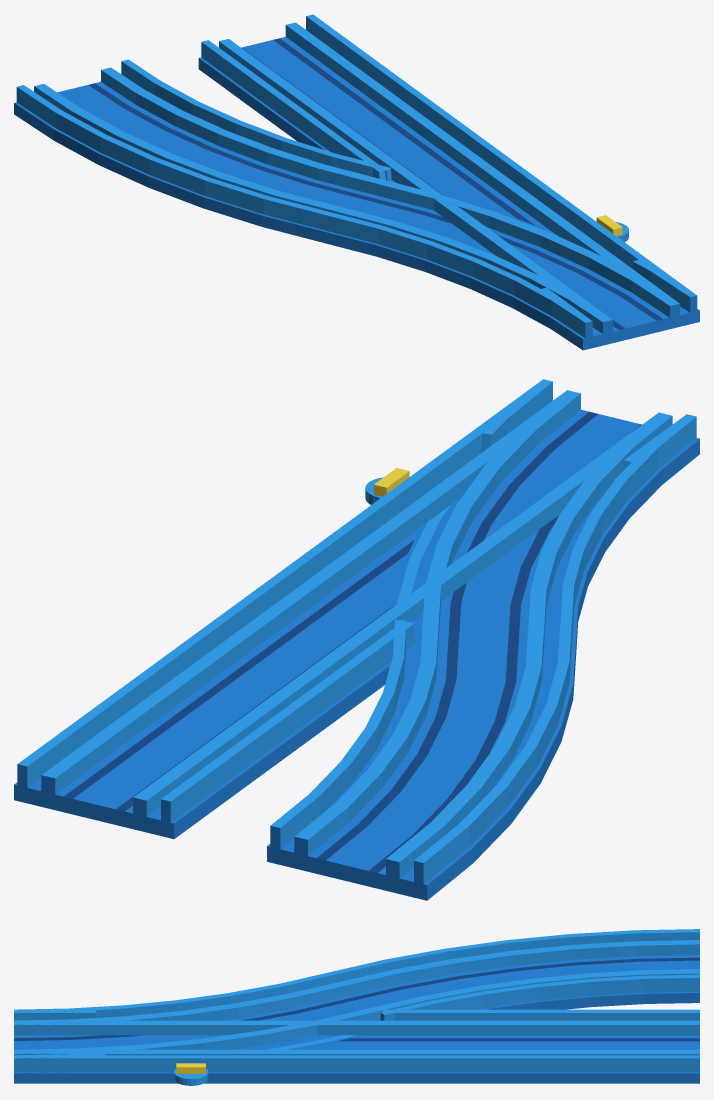
File: Track_DoublePoint_Left.fbx
The picture shows the model from 3 angles, top to bottom: view 1: azimuth 30°, elevation 25°; view 2: azimuth 150°, elevation 25°; view 3: azimuth 270°, elevation 25°; orthographic projection. The views are drawn at different scales.
Parts seen in each view (by area): view 1: Molded rail branch, Molded rail through; view 2: Molded rail branch, Molded rail through; view 3: Molded rail through, Molded rail branch, Lever base, Lever handle.
Part boxes in pixels (x1,y1,x2,y2): Molded rail branch: (14, 59, 699, 350); Molded rail through: (198, 14, 699, 349); Molded rail branch: (267, 379, 699, 900); Molded rail through: (14, 383, 682, 838); Molded rail through: (14, 1009, 699, 1083); Molded rail branch: (14, 929, 699, 1073); Lever base: (174, 1068, 208, 1085); Lever handle: (176, 1063, 205, 1073).
Size of the model in its own units: 295 by 23.31 by 600.
